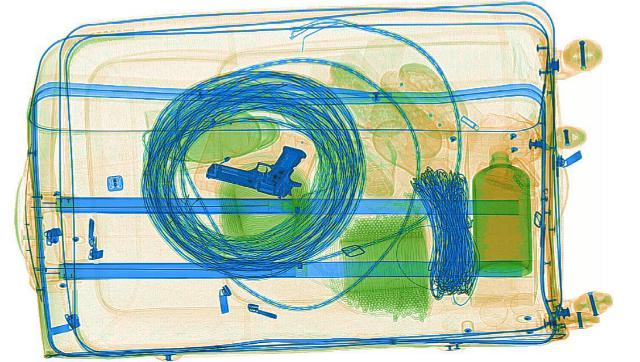Gun: (196, 133, 324, 197)
